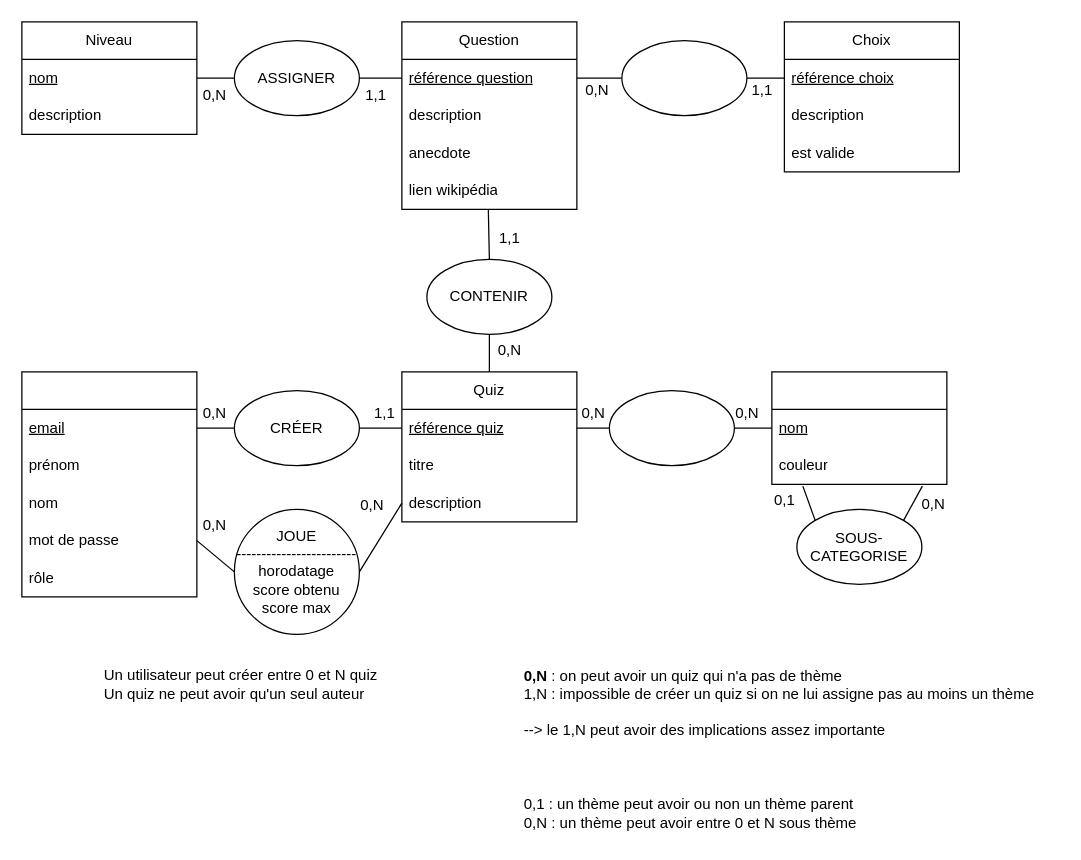
The diagram is 1081 pixels wide and 860 high, and some of its shapes have lost their labels. The shapes that lost their labels are listed below. From the top down, each one's box as (x1, y1, x2, y2) in pixels, then its label:
(621, 39, 747, 116): PRÉSENTE
(608, 389, 734, 466): CARACTÉRISE
(771, 371, 947, 484): Thème
(21, 371, 197, 597): Utilisateur
